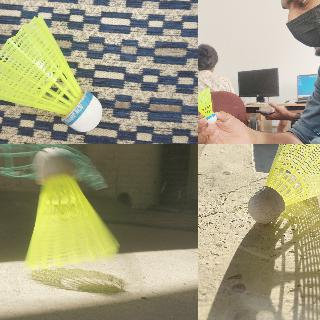shuttlecock: (0, 17, 102, 132), (22, 148, 118, 268), (248, 144, 319, 224), (198, 88, 216, 124)
